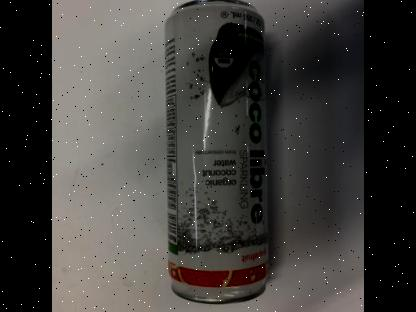Can: (164, 0, 267, 304)
